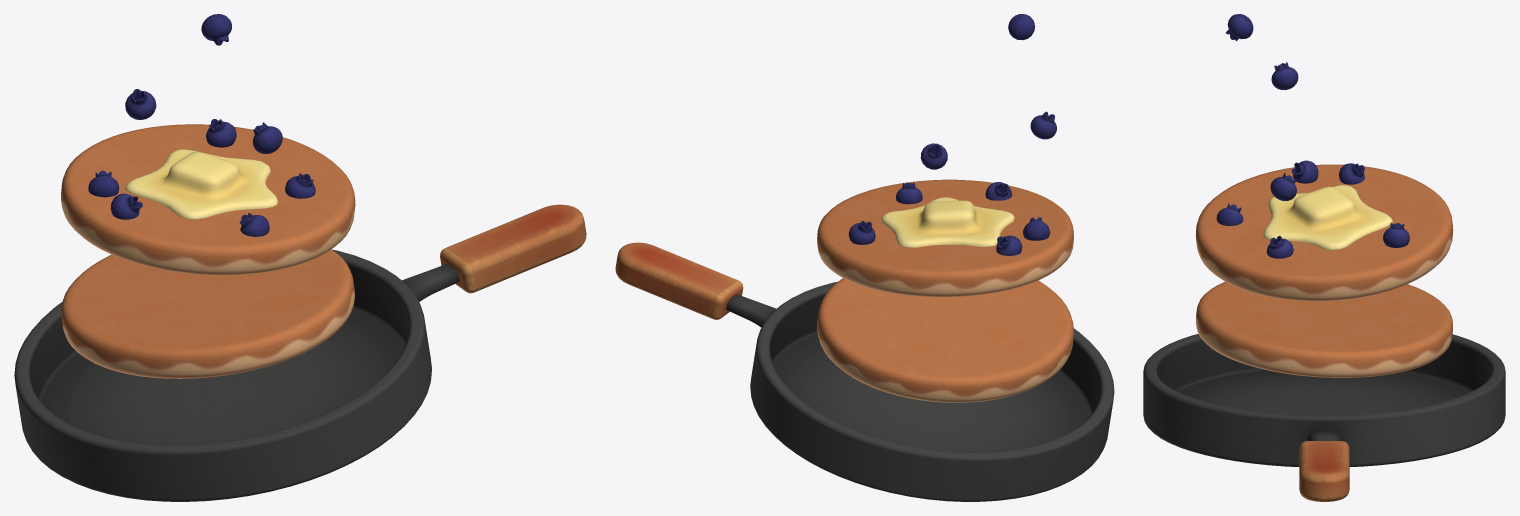
File: pancakes_LP2.glb
The picture shows the model from 3 angles, left to right: view 1: azimuth 30°, elevation 25°; view 2: azimuth 150°, elevation 25°; view 3: azimuth 270°, elevation 25°; orthographic projection. The views are drawn at different scales.
Visible parts, largest first — view 1: pan.001, cake_01_1.001, cake_01.001, Berry_01_2.001, Berry_01_3.001, Berry_01.001; view 2: pan.001, cake_01.001, cake_01_1.001, Berry_01_3.001, Berry_01.001, Berry_01_2.001; view 3: pan.001, cake_01_1.001, cake_01.001, Berry_01.001, Berry_01_2.001, Berry_01_3.001.
Part boxes in pixels (x1,y1,x2,y2): pan.001: (14, 204, 586, 501); cake_01_1.001: (61, 119, 355, 275); cake_01.001: (61, 249, 354, 378); Berry_01_2.001: (125, 89, 156, 119); Berry_01_3.001: (252, 122, 282, 153); Berry_01.001: (201, 14, 231, 45); pan.001: (615, 242, 1114, 501); cake_01.001: (817, 278, 1073, 402); cake_01_1.001: (817, 179, 1073, 296); Berry_01_3.001: (920, 143, 947, 169); Berry_01.001: (1008, 14, 1035, 40); Berry_01_2.001: (1030, 111, 1056, 139); pan.001: (1143, 334, 1505, 501); cake_01_1.001: (1195, 160, 1453, 301); cake_01.001: (1196, 281, 1452, 377); Berry_01.001: (1226, 14, 1253, 40); Berry_01_2.001: (1271, 62, 1298, 89); Berry_01_3.001: (1270, 172, 1296, 200).
Size of the model in its own units: 0.397 by 0.3247 by 0.2639.
1 material, 1 textured.
